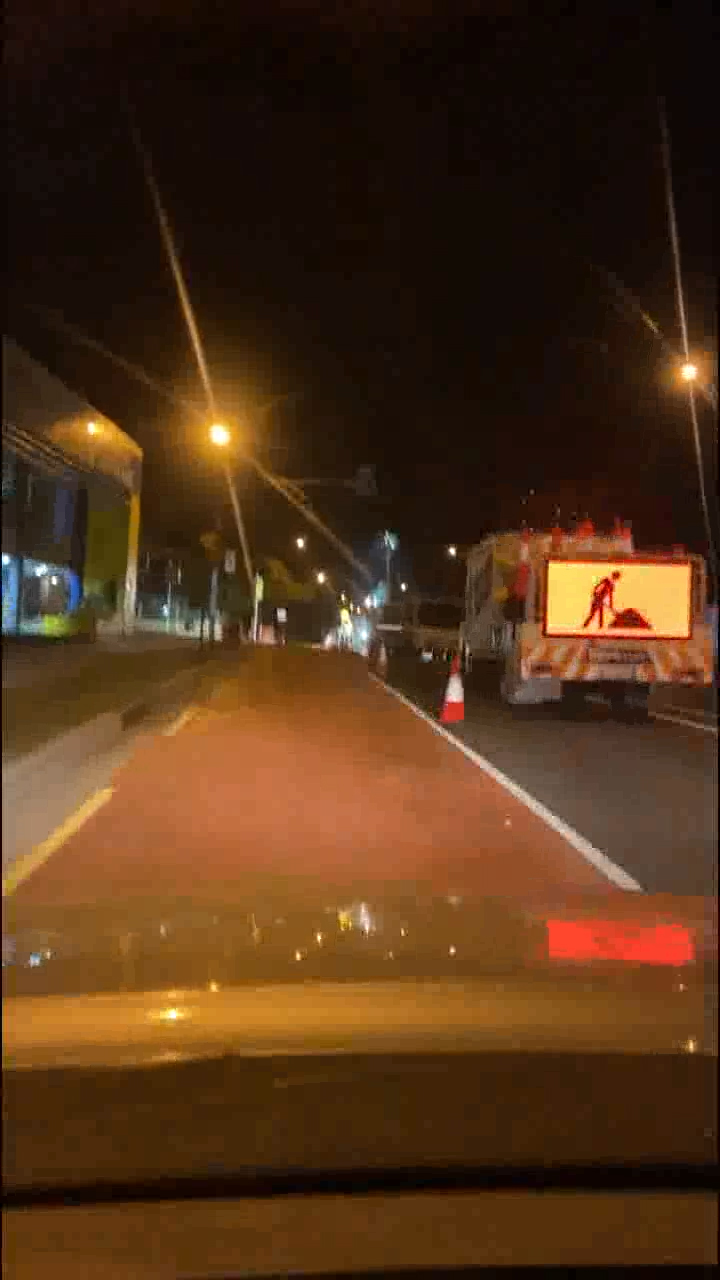road cone: (445, 655, 475, 738)
truck: (462, 522, 717, 714)
